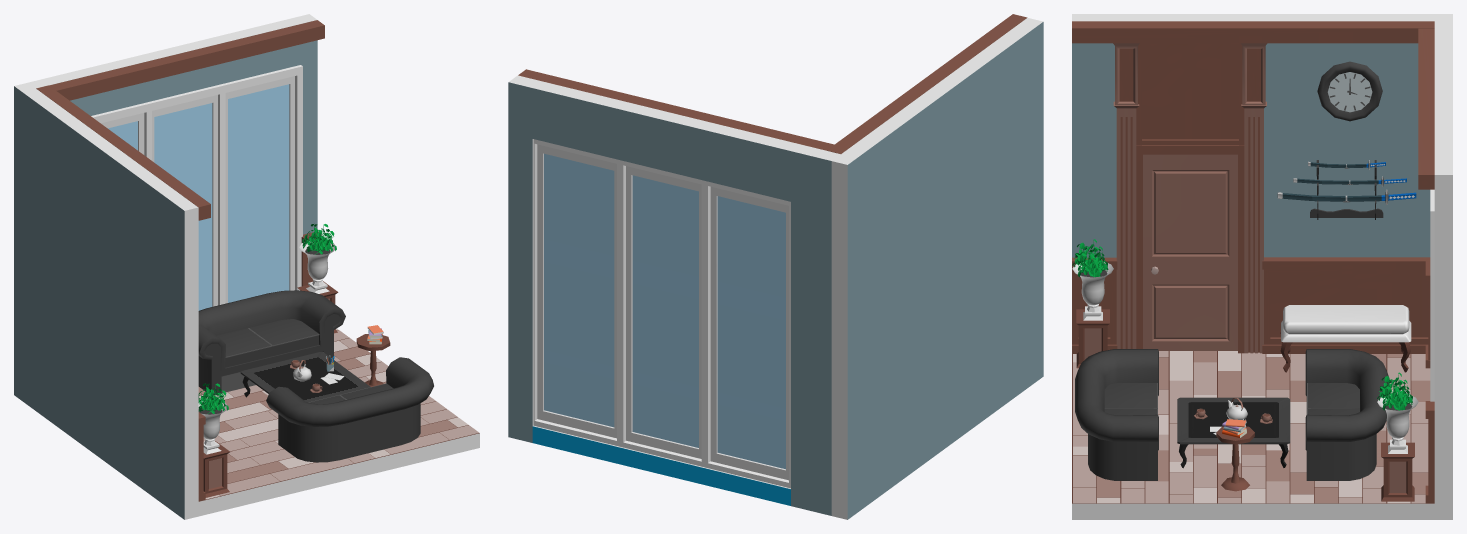
File: room_22.glb
The picture shows the model from 3 angles, left to right: view 1: azimuth 30°, elevation 25°; view 2: azimuth 150°, elevation 25°; view 3: azimuth 270°, elevation 25°; orthographic projection. The views are drawn at different scales.
Visible parts, largest first — view 1: Walls_116.002, window_021.001, sofa_014.002, sofa_014.001, floor_018.006, Walls_116.005, Walls_019.033, Walls_056.008, Walls_116.004, coffee_table_004.001, flower_016.002, Walls_019.032 (+2 smaller); view 2: Walls_116.002, window_021.001, Walls_116.005, Walls_116.003, Walls_116.004, Walls_075.027, Walls_019.032, Walls_019.033; view 3: Walls_116.002, floor_018.006, door_009.003, sofa_014.002, sofa_014.001, Walls_019.034, Walls_056.008, Walls_019.032, Walls_116.004, entertainment_034.001, entertainment_034.002, Walls_019.026 (+23 smaller).
Boxes of the visible parts, <box> form: Walls_116.002: <box>14,82,198,519</box>; window_021.001: <box>91,65,302,310</box>; sofa_014.002: <box>266,357,433,462</box>; sofa_014.001: <box>198,290,345,395</box>; floor_018.006: <box>198,328,479,499</box>; Walls_116.005: <box>63,19,296,115</box>; Walls_019.033: <box>49,20,324,100</box>; Walls_056.008: <box>198,330,479,516</box>; Walls_116.004: <box>288,14,317,234</box>; coffee_table_004.001: <box>240,352,370,402</box>; flower_016.002: <box>198,383,229,497</box>; Walls_019.032: <box>36,85,210,220</box>; Walls_116.002: <box>831,17,1043,519</box>; window_021.001: <box>533,139,790,488</box>; Walls_116.005: <box>532,81,799,201</box>; Walls_116.003: <box>791,144,840,515</box>; Walls_116.004: <box>508,75,541,442</box>; Walls_075.027: <box>532,425,790,505</box>; Walls_019.032: <box>827,14,1027,153</box>; Walls_019.033: <box>518,69,834,150</box>; Walls_116.002: <box>1072,14,1452,257</box>; floor_018.006: <box>1073,351,1430,503</box>; door_009.003: <box>1143,154,1237,350</box>; sofa_014.002: <box>1075,349,1158,480</box>; sofa_014.001: <box>1305,349,1389,480</box>; Walls_019.034: <box>1142,44,1238,139</box>; Walls_056.008: <box>1072,351,1434,519</box>; Walls_019.032: <box>1072,21,1434,43</box>; Walls_116.004: <box>1434,163,1452,519</box>; entertainment_034.001: <box>1113,43,1139,348</box>; entertainment_034.002: <box>1241,43,1267,353</box>; Walls_019.026: <box>1270,274,1428,337</box>.
Size of the model in its own units: 4.2 by 4.2 by 4.2.
1 material, 1 textured.
